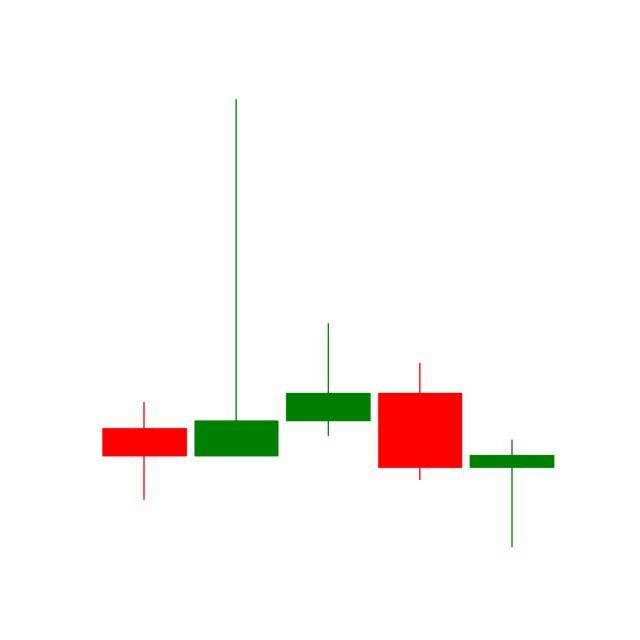Hammer: (466, 439, 559, 549)
